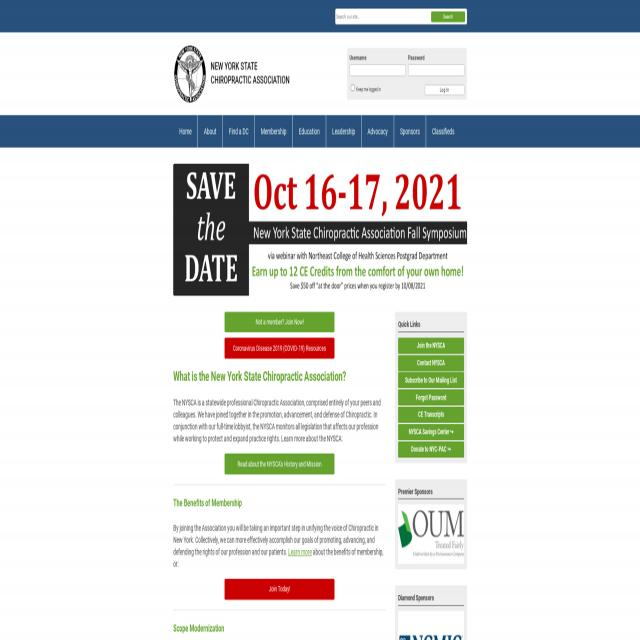button: (173, 164, 467, 296), (173, 44, 291, 104), (398, 505, 464, 564), (225, 312, 334, 333), (225, 454, 334, 475), (225, 579, 334, 600), (225, 339, 334, 359), (398, 611, 464, 640), (255, 115, 292, 147), (326, 115, 361, 148), (426, 115, 460, 147), (222, 115, 255, 147), (361, 115, 394, 147), (398, 338, 464, 354), (398, 356, 464, 372), (398, 373, 464, 389), (398, 390, 464, 406), (398, 424, 464, 440), (398, 442, 464, 458), (293, 115, 325, 147), (394, 116, 426, 147), (398, 408, 464, 423), (198, 115, 222, 148), (173, 115, 197, 147), (425, 84, 464, 96), (431, 11, 465, 22)
field: (335, 8, 467, 26), (349, 64, 406, 76), (408, 64, 464, 76), (350, 85, 354, 91)
